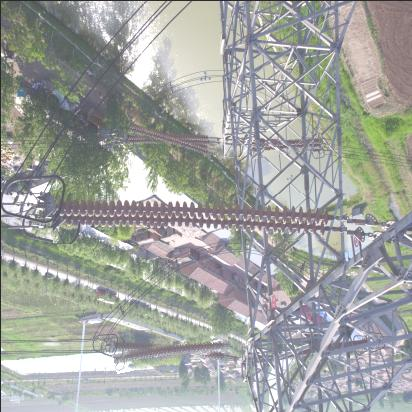insulator: (53, 194, 347, 243), (113, 337, 230, 368), (127, 129, 214, 153), (249, 136, 323, 157)
